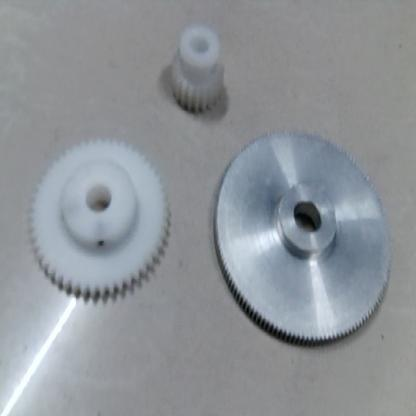FOD: (205, 132, 394, 348), (22, 141, 169, 305), (160, 25, 230, 119)
